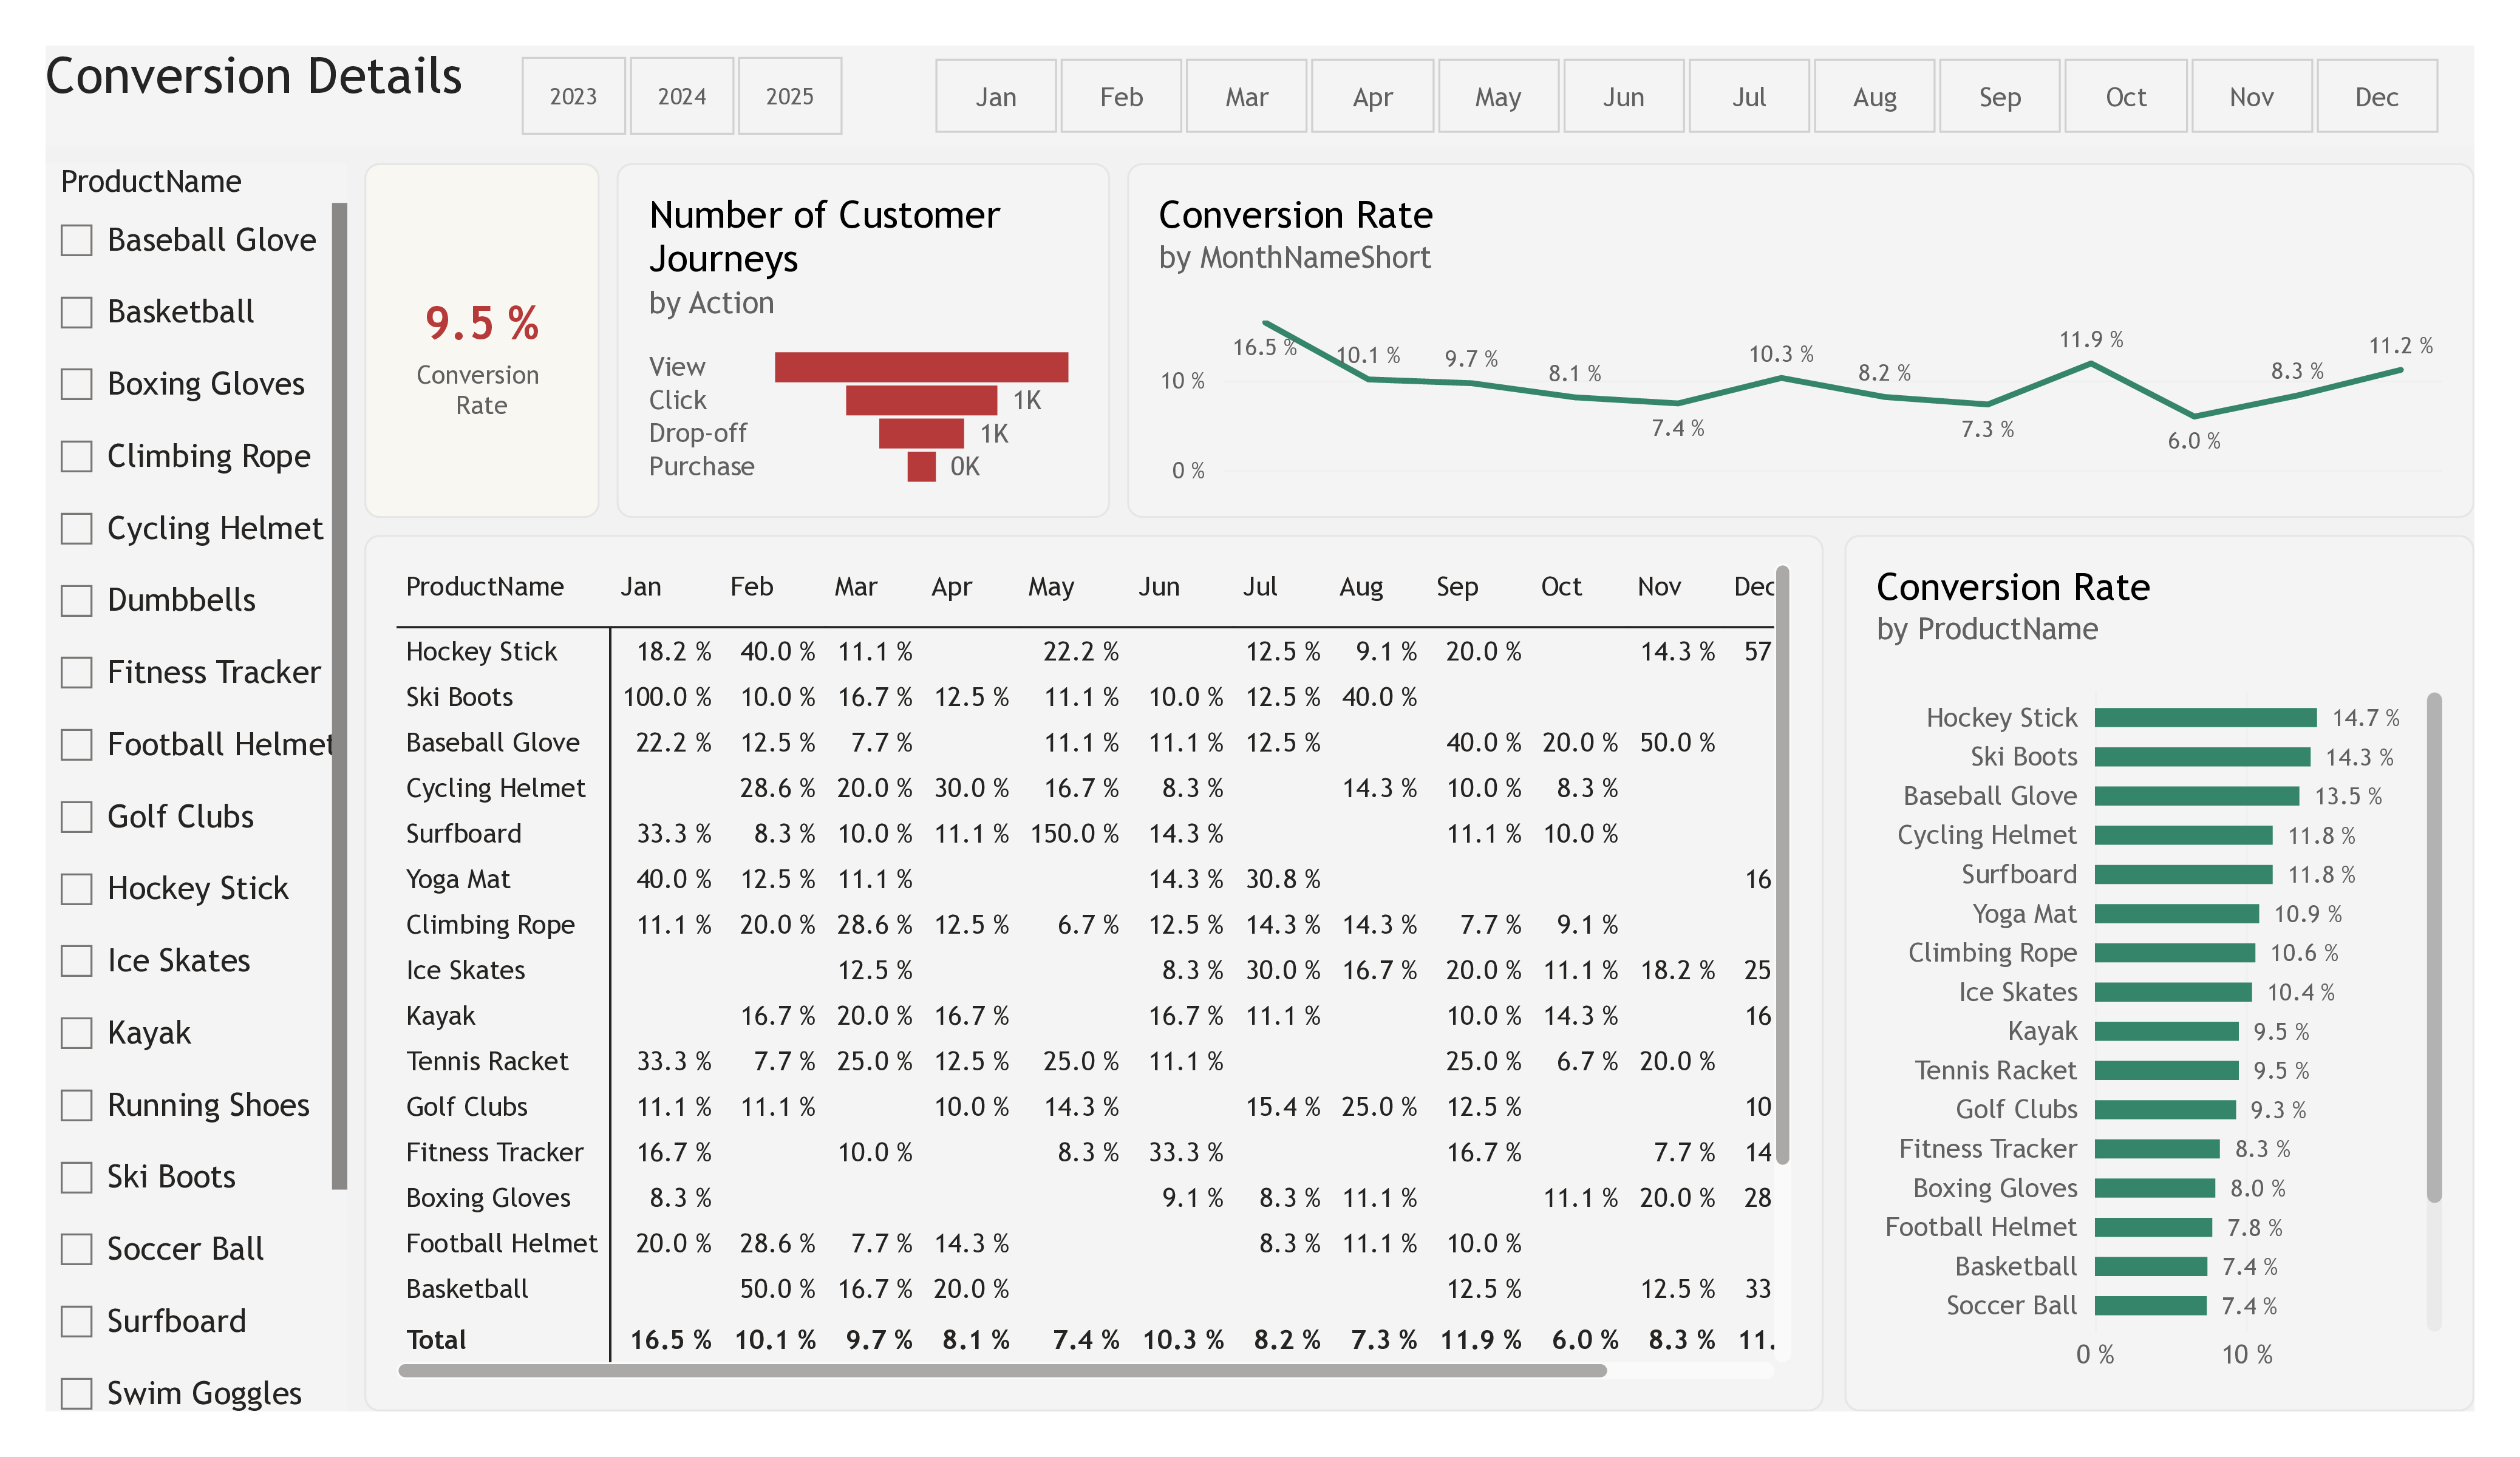

This screenshot's page, from the dashboard's own definition file:
{"tool":"powerbi","page":{"name":"Conversion Details","canvas":[1280,720],"ordinal":1},"visuals":[{"type":"textbox","box":[0,0,1280,52.6],"z":0},{"type":"slicer","fields":{"Values":["dim_products.ProductName"]},"box":[0,61.9,159.4,658.4],"z":1000},{"type":"card","fields":{"Values":["_Calculations.Conversion Rate"]},"box":[168.5,61.9,123.8,186.7],"z":2000},{"type":"lineChart","fields":{"Category":["Calendar.MonthNameShort"],"Y":["_Calculations.Conversion Rate"]},"box":[570.1,61.9,710.3,186.7],"z":3000},{"type":"clusteredBarChart","fields":{"Category":["dim_products.ProductName"],"Y":["_Calculations.Conversion Rate"]},"box":[948,257.7,332.4,462.6],"z":4000},{"type":"slicer","fields":{"Values":["Calendar.Year"]},"box":[230.2,4.1,208.5,44.4],"z":5000},{"type":"slicer","fields":{"Values":["Calendar.MonthNameShort"]},"box":[448,4.6,832.3,43.7],"z":6000},{"type":"pivotTable","fields":{"Columns":["Calendar.MonthNameShort"],"Rows":["dim_products.ProductName"],"Values":["_Calculations.Conversion Rate"]},"box":[168.5,257.7,768.6,462.6],"z":7000},{"type":"funnel","fields":{"Category":["fact_customer_journey.Action"],"Y":["_Calculations.Number of Customer Journeys"]},"box":[301.4,61.9,259.5,186.7],"z":8000}]}

Visuals, with their boxes on the page's 1280x720 design canvas (x1, y1, x2, y2). These are canvas units, not pixel positions in the 2520x1457 screenshot, which may show the page scaled, cropped or inside an application window:
textbox: box=[0, 0, 1280, 53]
slicer - dim_products.ProductName: box=[0, 62, 159, 720]
card - _Calculations.Conversion Rate: box=[168, 62, 292, 249]
lineChart - Calendar.MonthNameShort x _Calculations.Conversion Rate: box=[570, 62, 1280, 249]
clusteredBarChart - dim_products.ProductName x _Calculations.Conversion Rate: box=[948, 258, 1280, 720]
slicer - Calendar.Year: box=[230, 4, 439, 48]
slicer - Calendar.MonthNameShort: box=[448, 5, 1280, 48]
pivotTable - Calendar.MonthNameShort x dim_products.ProductName: box=[168, 258, 937, 720]
funnel - fact_customer_journey.Action x _Calculations.Number of Customer Journeys: box=[301, 62, 561, 249]
